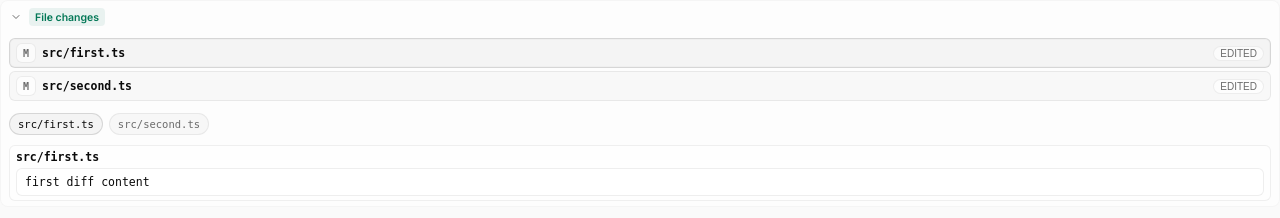
Test: ExecutionTimeline › switches between diff tabs for multi-file tool changes
Expected: the text "first diff content" is shown, top-left (16, 168), bottom-right (1264, 196)
Click the tab "src/second.ts": (159, 124) top-left (109, 113), bottom-right (209, 135)
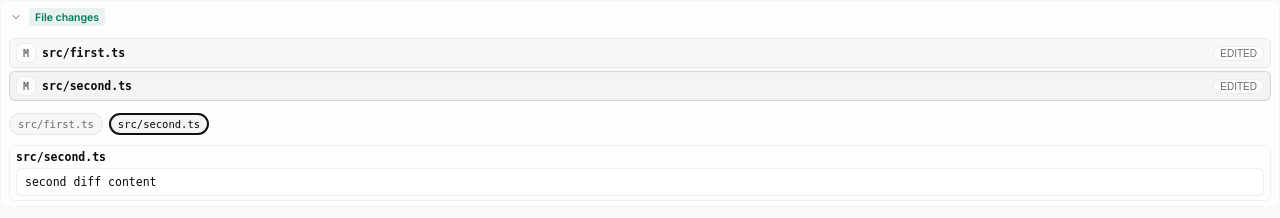
Now the text "second diff content" is shown, box top-left (16, 168), bottom-right (1264, 196)
